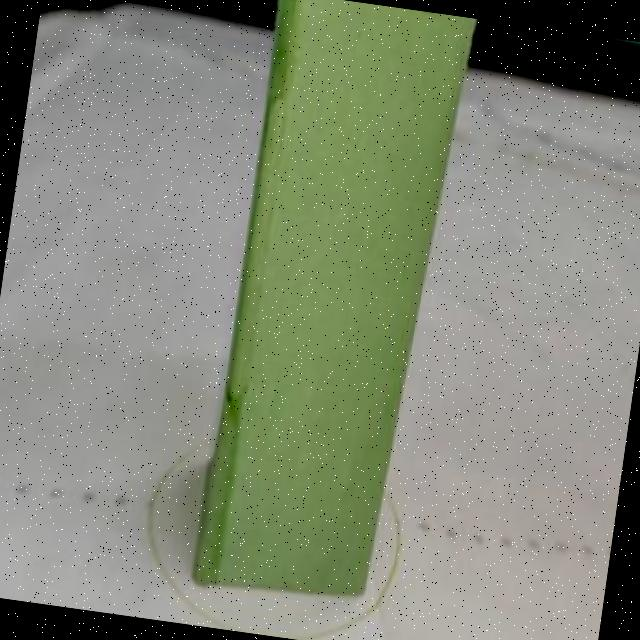greenbox: (196, 0, 464, 599)
